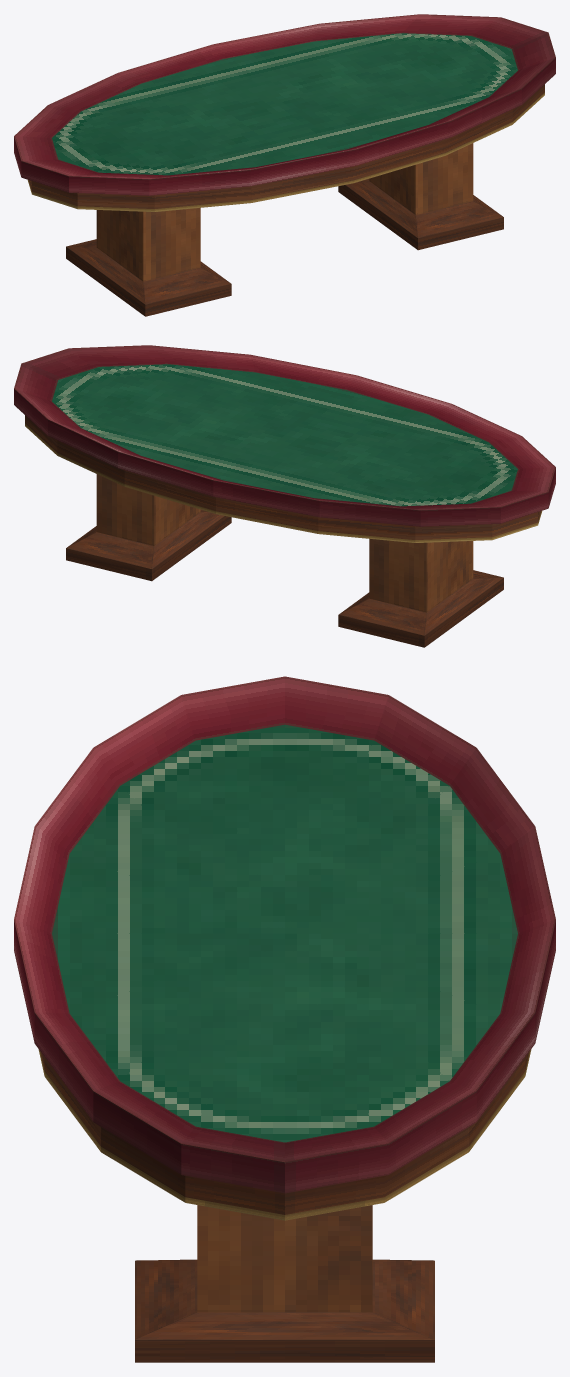
File: baccarat-table.glb
3 renders of one model, top to bottom at view 1: azimuth 30°, elevation 25°; view 2: azimuth 150°, elevation 25°; view 3: azimuth 270°, elevation 25°, orthographic. The views are drawn at different scales.
Parts seen in each view (by area): view 1: _MeshInstance3D_4; view 2: _MeshInstance3D_4; view 3: _MeshInstance3D_4.
Boxes of the visible parts, left/top/right/bottom form: _MeshInstance3D_4: left=14, top=14, right=555, bottom=316; _MeshInstance3D_4: left=14, top=345, right=555, bottom=647; _MeshInstance3D_4: left=14, top=676, right=555, bottom=1362.
Size of the model in its own units: 3.67 by 0.98 by 1.73.
1 material, 1 textured.
